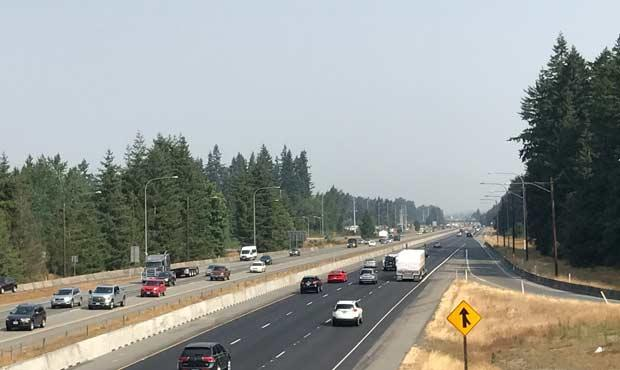bus: (141, 252, 200, 283), (394, 247, 427, 282)
car: (177, 341, 233, 370), (6, 303, 48, 331), (87, 285, 128, 310), (331, 299, 365, 327), (51, 286, 85, 308), (139, 277, 167, 297), (299, 274, 324, 294), (209, 265, 232, 281), (359, 268, 380, 285), (157, 271, 178, 287), (156, 271, 178, 286), (382, 253, 400, 271), (239, 245, 258, 262), (1, 275, 17, 294), (327, 269, 348, 283), (361, 257, 379, 269), (205, 263, 219, 277), (249, 261, 266, 272), (258, 254, 274, 265), (288, 247, 302, 257), (346, 238, 358, 248), (367, 240, 378, 247), (432, 240, 441, 248)
